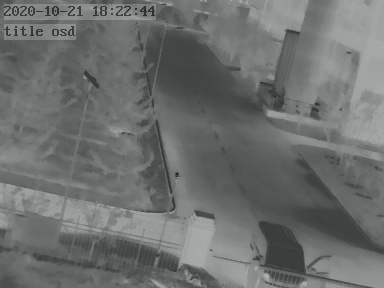vehicle: (247, 219, 313, 288)
